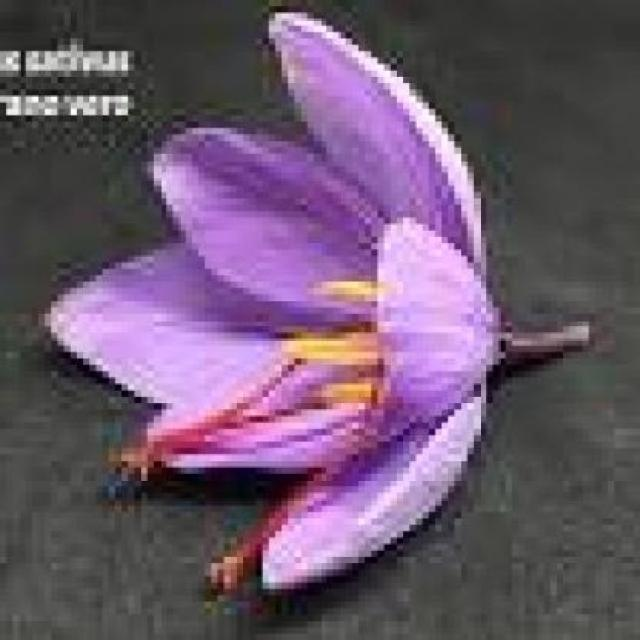saffron open: (50, 12, 496, 589)
